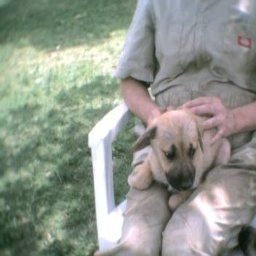dog: (137, 107, 229, 213)
